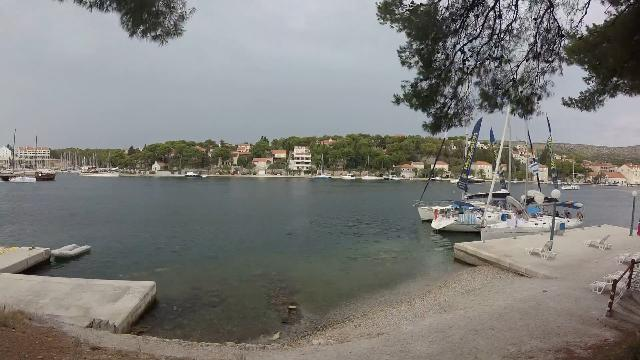Freighter: (0, 165, 60, 184)
Sailboat: (4, 171, 42, 189)
